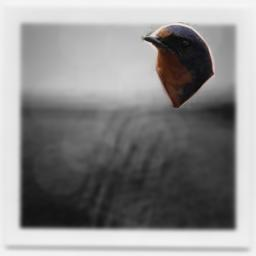Swallow: (141, 22, 215, 108)
